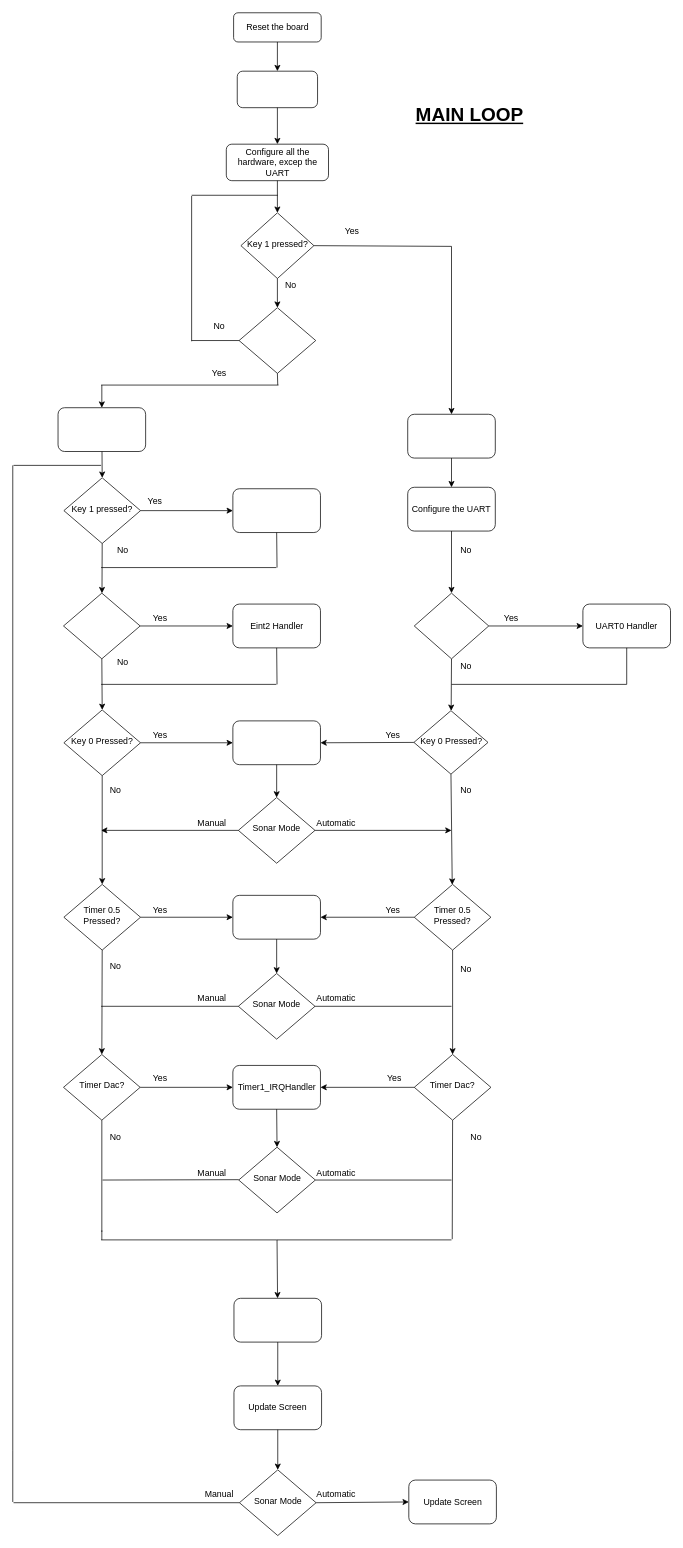
This 683x1548 diagram has some shape labels left out. The centre of each missing label's shape, as x and y in pixels:
Change the sonar mode to automatic: the point at 451,436
Change the sonar mode to manual: the point at 101,429
Clear Flag Keys: the point at 277,1320
Eint0 Handler: the point at 276,742
Eint1 Handler: the point at 276,510
Initialize the sonar in Setup Mode: the point at 277,89
Key 2 Pressed?: the point at 101,625
New message via UART?: the point at 451,625
Timer 0.5 Interrupt?: the point at 277,340
Timer05 Handler: the point at 276,917
